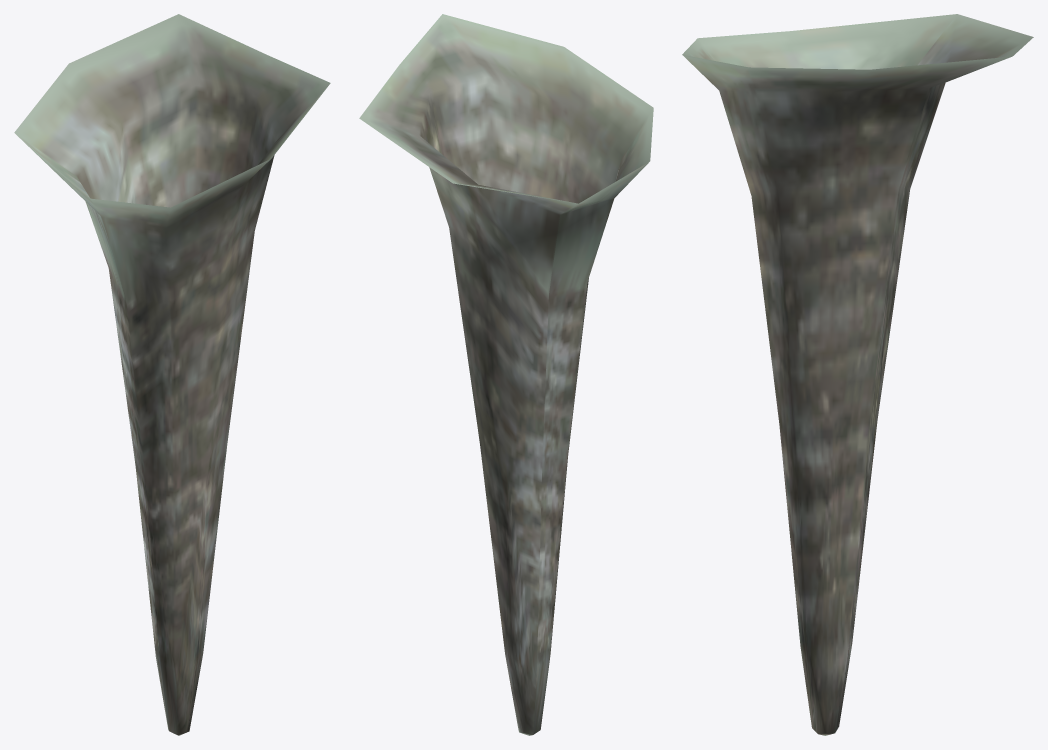
Rendered from TROLLHOLE02_PS-MAINSTALAG35.fbx.
3 renders of one model, left to right at view 1: azimuth 30°, elevation 25°; view 2: azimuth 150°, elevation 25°; view 3: azimuth 270°, elevation 25°, orthographic. The views are drawn at different scales.
Parts seen in each view (by area): view 1: TROLLHOLE02_PS-MAINSTALAG35; view 2: TROLLHOLE02_PS-MAINSTALAG35; view 3: TROLLHOLE02_PS-MAINSTALAG35.
Part boxes in pixels (bbox=[...]): TROLLHOLE02_PS-MAINSTALAG35: bbox=[14, 14, 330, 735]; TROLLHOLE02_PS-MAINSTALAG35: bbox=[359, 14, 653, 735]; TROLLHOLE02_PS-MAINSTALAG35: bbox=[682, 14, 1033, 735].
Bounding box in the file's own units: 8703 × 24027 × 10443.
1 material, 1 textured.
